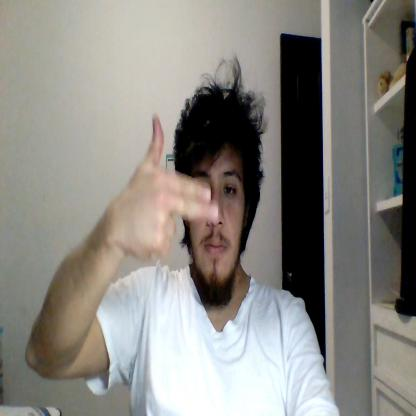H: (122, 115, 219, 260)
